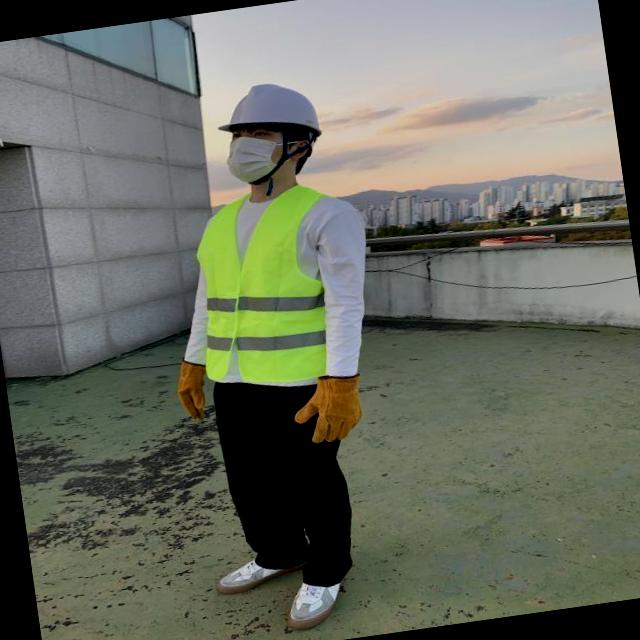vest: (183, 182, 354, 393)
